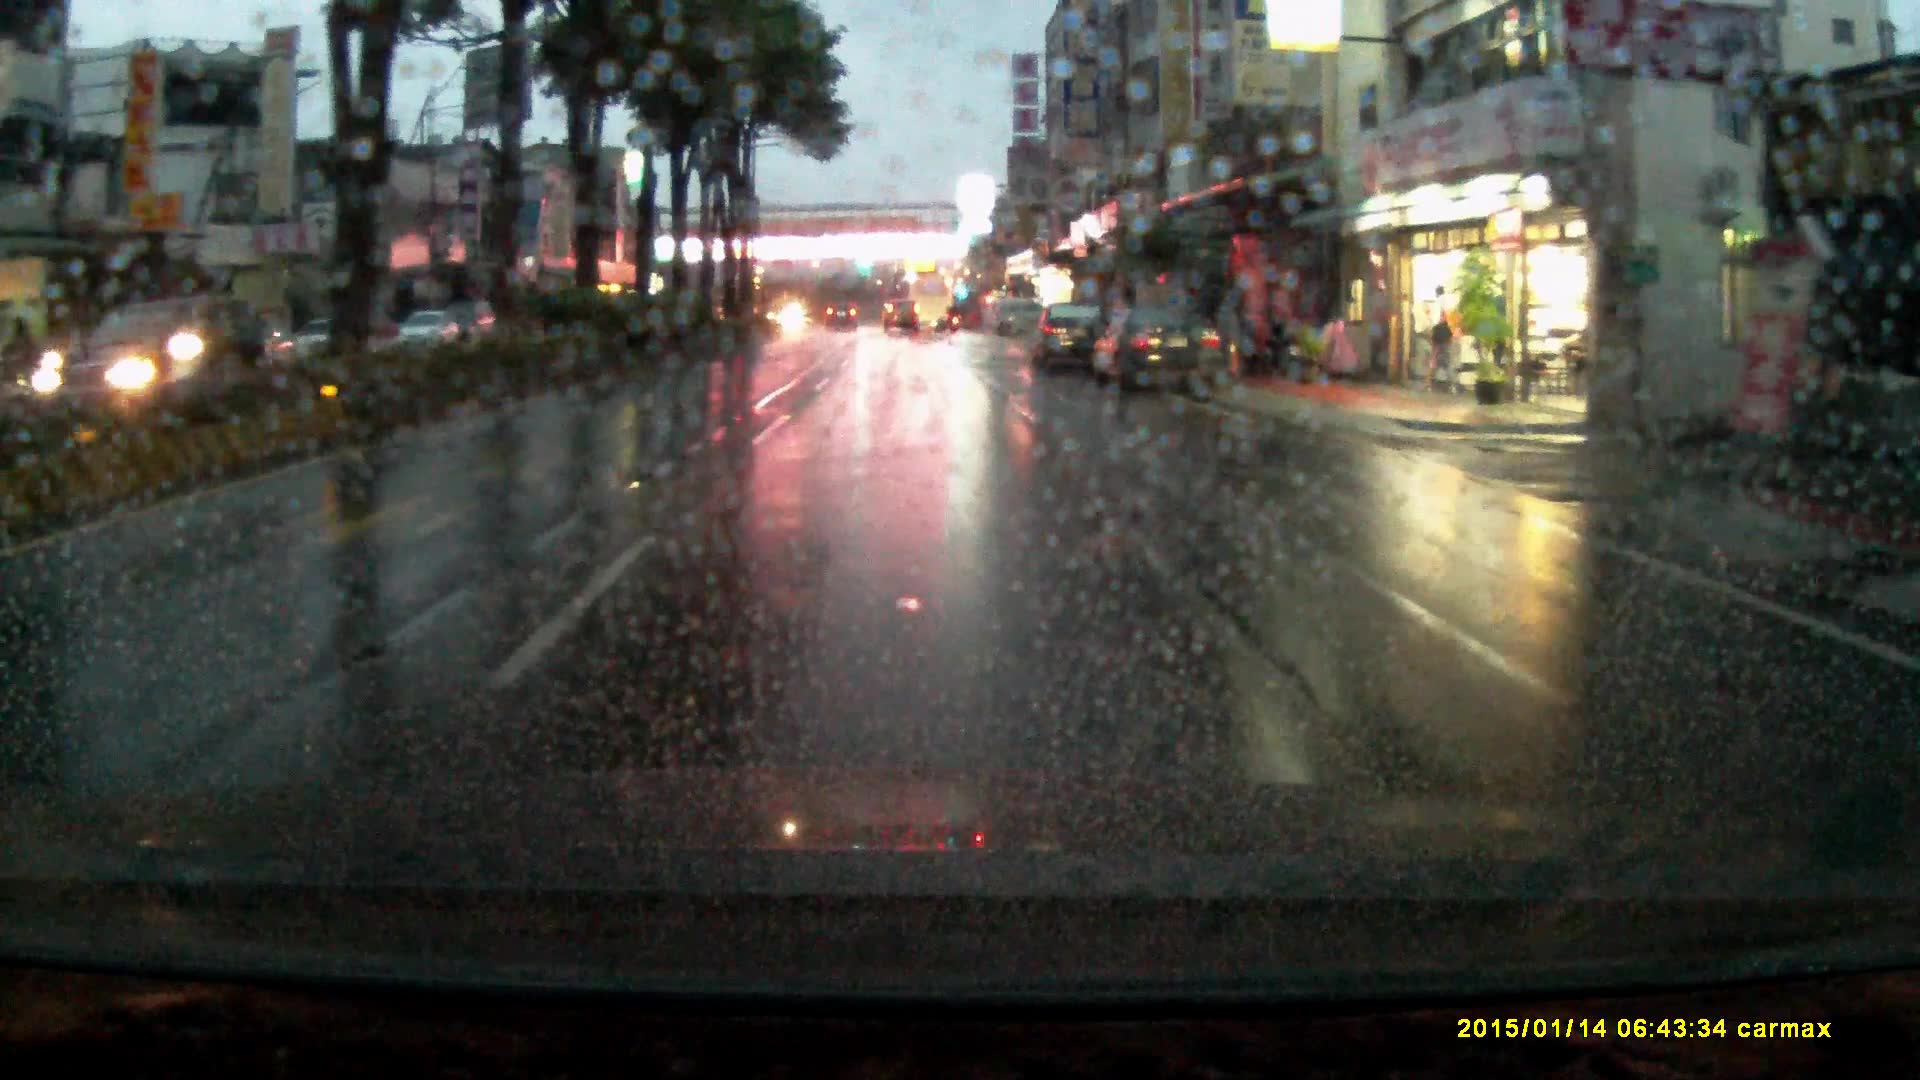rider: (160, 281, 255, 434)
vehicle: (34, 289, 240, 419), (1089, 300, 1228, 394), (1027, 298, 1112, 374), (288, 312, 367, 361), (900, 273, 953, 330), (986, 295, 1046, 335), (405, 306, 460, 344), (885, 296, 922, 332), (827, 298, 863, 328)
